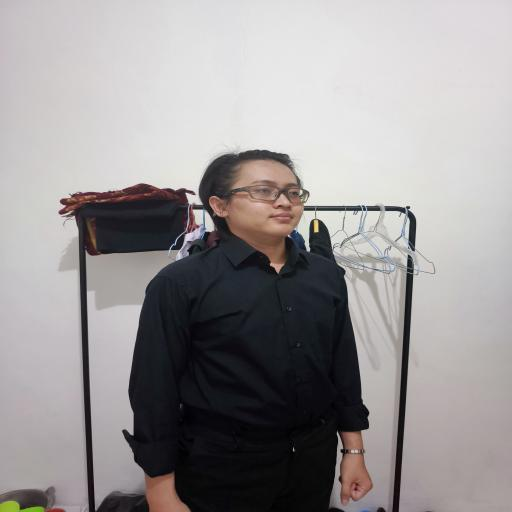celana_benar: (177, 426, 338, 512)
kemeja_salah: (119, 248, 384, 432)
